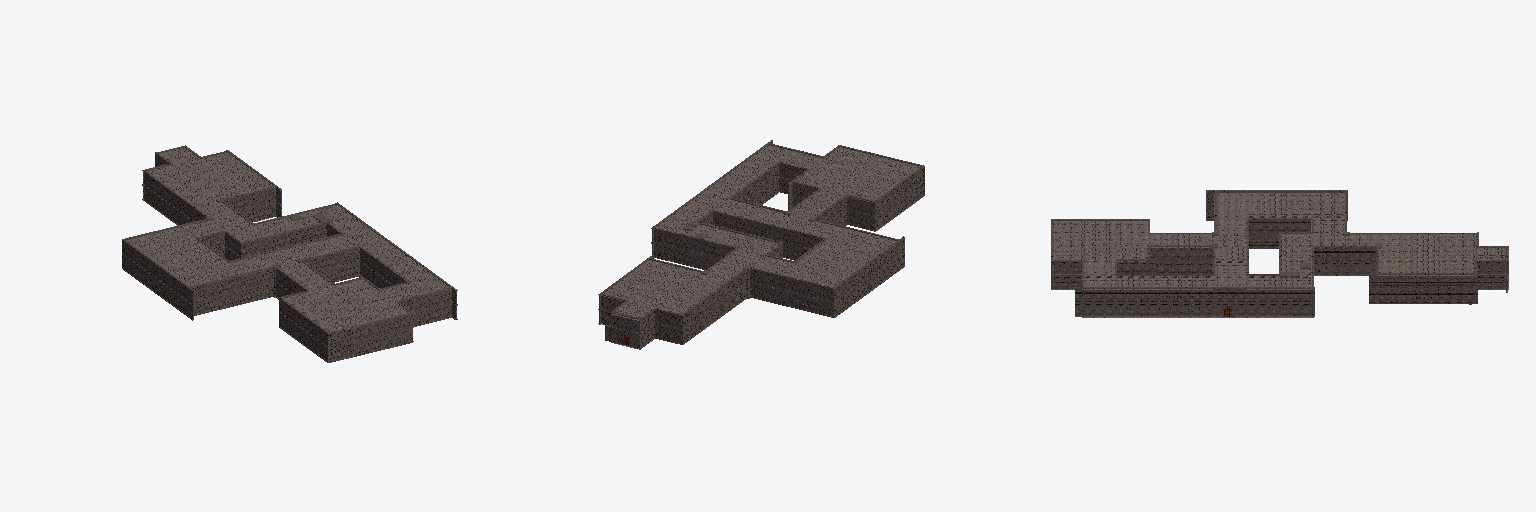
3 views of the same model, side by side, from view 1: azimuth 30°, elevation 25°; view 2: azimuth 150°, elevation 25°; view 3: azimuth 270°, elevation 25° (orthographic).
Bounding box in the file's own units: 42.43 × 6.73 × 84.
2 materials, 2 textured.